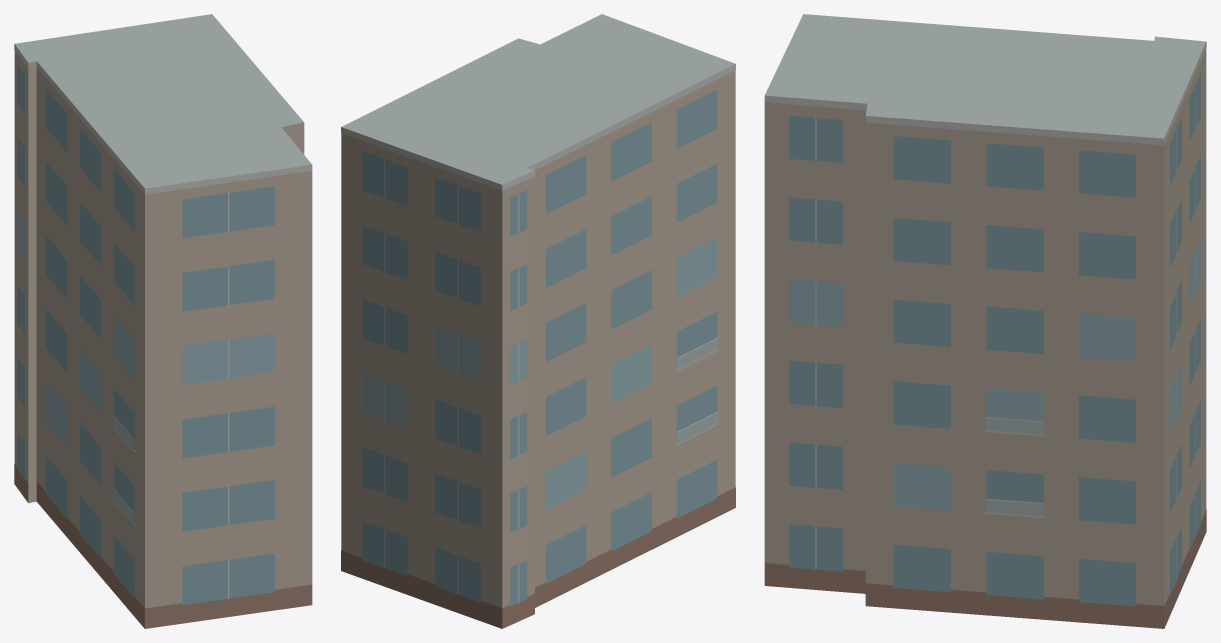
Rendered from survey-upis-32880998.glb.
3 renders of one model, left to right at view 1: azimuth 30°, elevation 25°; view 2: azimuth 150°, elevation 25°; view 3: azimuth 270°, elevation 25°, orthographic. The views are drawn at different scales.
Parts seen in each view (by area): view 1: survey-upis-32880998.tmp; view 2: survey-upis-32880998.tmp; view 3: survey-upis-32880998.tmp.
Part boxes in pixels (x1,y1,x2,y2): survey-upis-32880998.tmp: [14, 14, 312, 628]; survey-upis-32880998.tmp: [341, 14, 735, 628]; survey-upis-32880998.tmp: [764, 14, 1206, 628].
Size of the model in its own units: 9.69 by 17.75 by 14.51.
